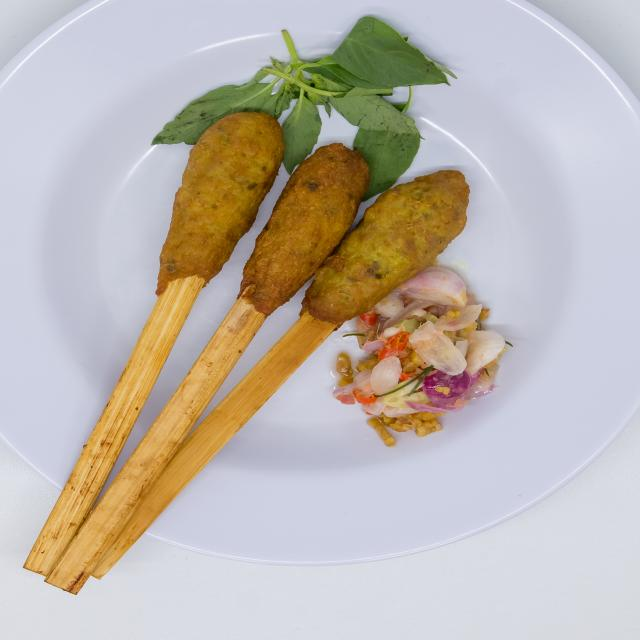Sate-Lilit: (116, 13, 532, 528)
